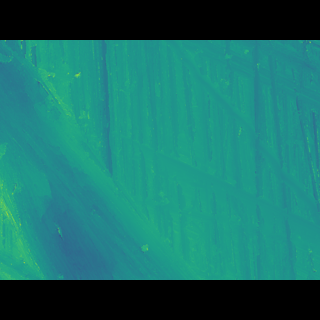Loch: (0, 70, 205, 252), (163, 69, 319, 210)
